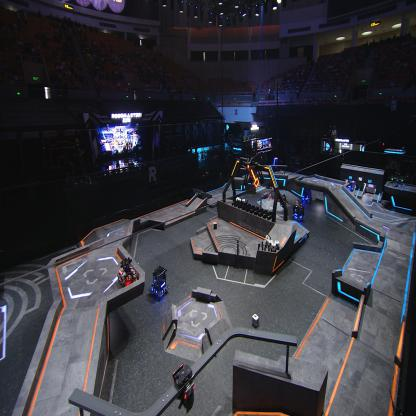car: (147, 265, 170, 302), (116, 255, 139, 285), (292, 199, 304, 221), (268, 187, 280, 202), (278, 192, 286, 206), (300, 190, 309, 202), (347, 181, 353, 192)
